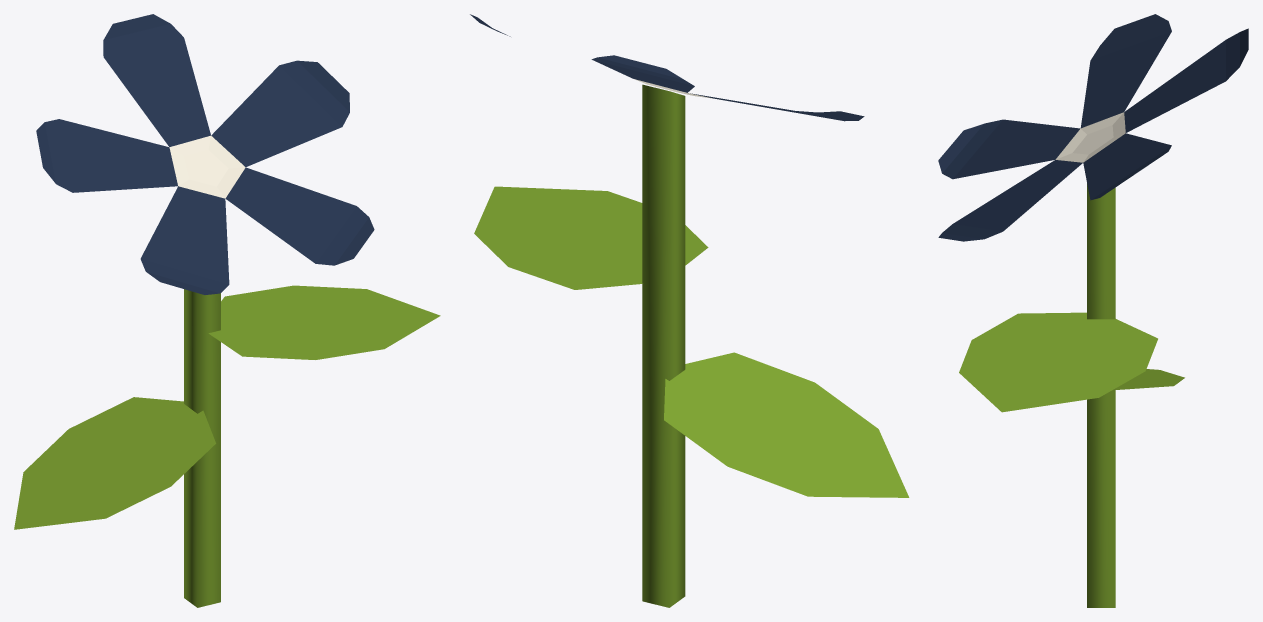
Rendered from Flower_24.fbx.
The picture shows the model from 3 angles, left to right: view 1: azimuth 30°, elevation 25°; view 2: azimuth 150°, elevation 25°; view 3: azimuth 270°, elevation 25°; orthographic projection. The views are drawn at different scales.
Parts seen in each view (by area): view 1: Flower_24; view 2: Flower_24; view 3: Flower_24.
Part boxes in pixels (x1,y1,x2,y2): Flower_24: (14, 14, 440, 607); Flower_24: (470, 14, 909, 607); Flower_24: (938, 14, 1248, 607).
Bounding box in the file's own units: 45.81 × 59.39 × 29.68.
